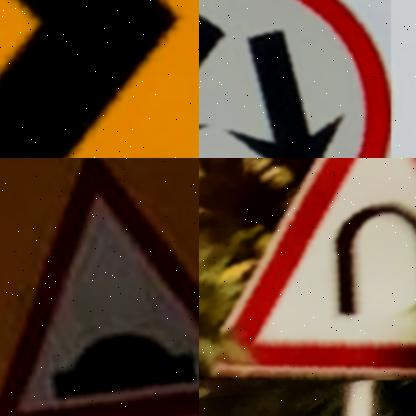Road Divides: (199, 0, 391, 158)
Sharp Right Turn: (0, 0, 199, 158)
Speed Breaker Ahead: (0, 158, 199, 416)
U-Turn: (199, 158, 416, 380)
